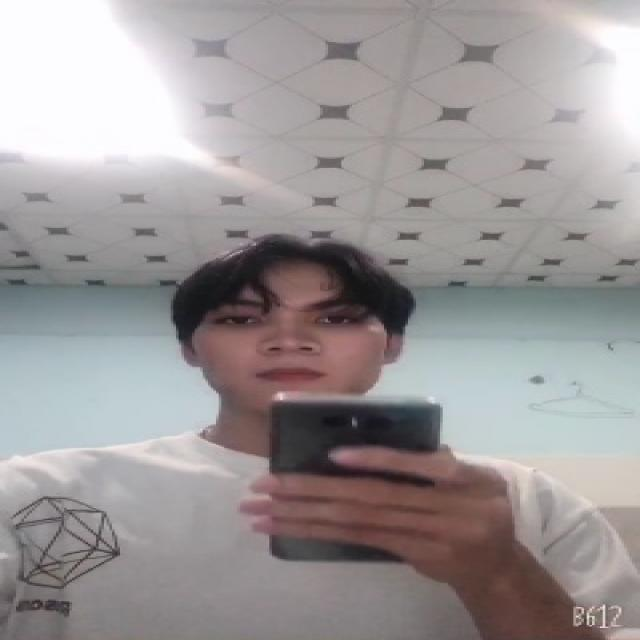Phone: (264, 392, 444, 566)
